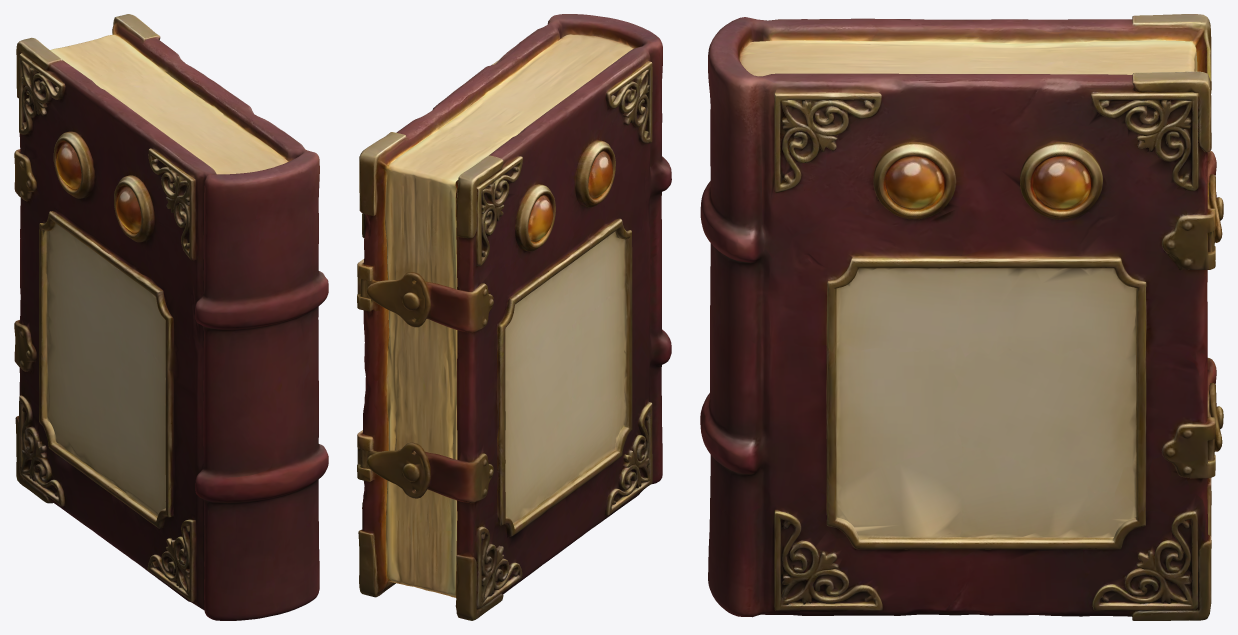
File: zauberbuch.glb
3 views of the same model, side by side, from view 1: azimuth 30°, elevation 25°; view 2: azimuth 150°, elevation 25°; view 3: azimuth 270°, elevation 25° (orthographic). The views are drawn at different scales.
Visible parts, largest first — view 1: tripo_node_0231726a-d24d-4b07-86af-e570fa48a02b; view 2: tripo_node_0231726a-d24d-4b07-86af-e570fa48a02b; view 3: tripo_node_0231726a-d24d-4b07-86af-e570fa48a02b.
Boxes of the visible parts, x1,y1,x2,y2 form: tripo_node_0231726a-d24d-4b07-86af-e570fa48a02b: (14, 14, 328, 620); tripo_node_0231726a-d24d-4b07-86af-e570fa48a02b: (357, 14, 671, 620); tripo_node_0231726a-d24d-4b07-86af-e570fa48a02b: (700, 14, 1223, 620).
Bounding box in the file's own units: 0.3435 × 1 × 0.8757.
Materials: 1 (1 with a texture image).
